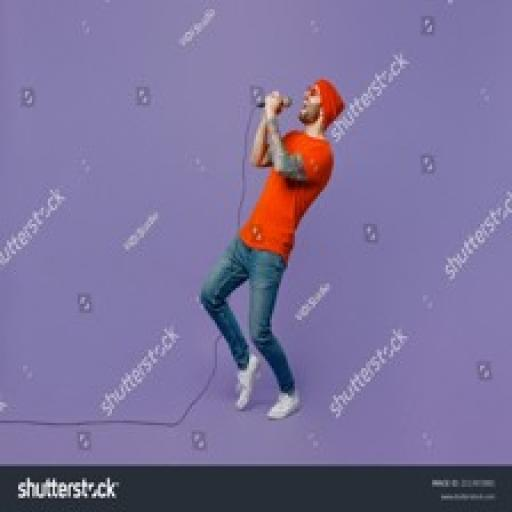human: (184, 72, 352, 425)
